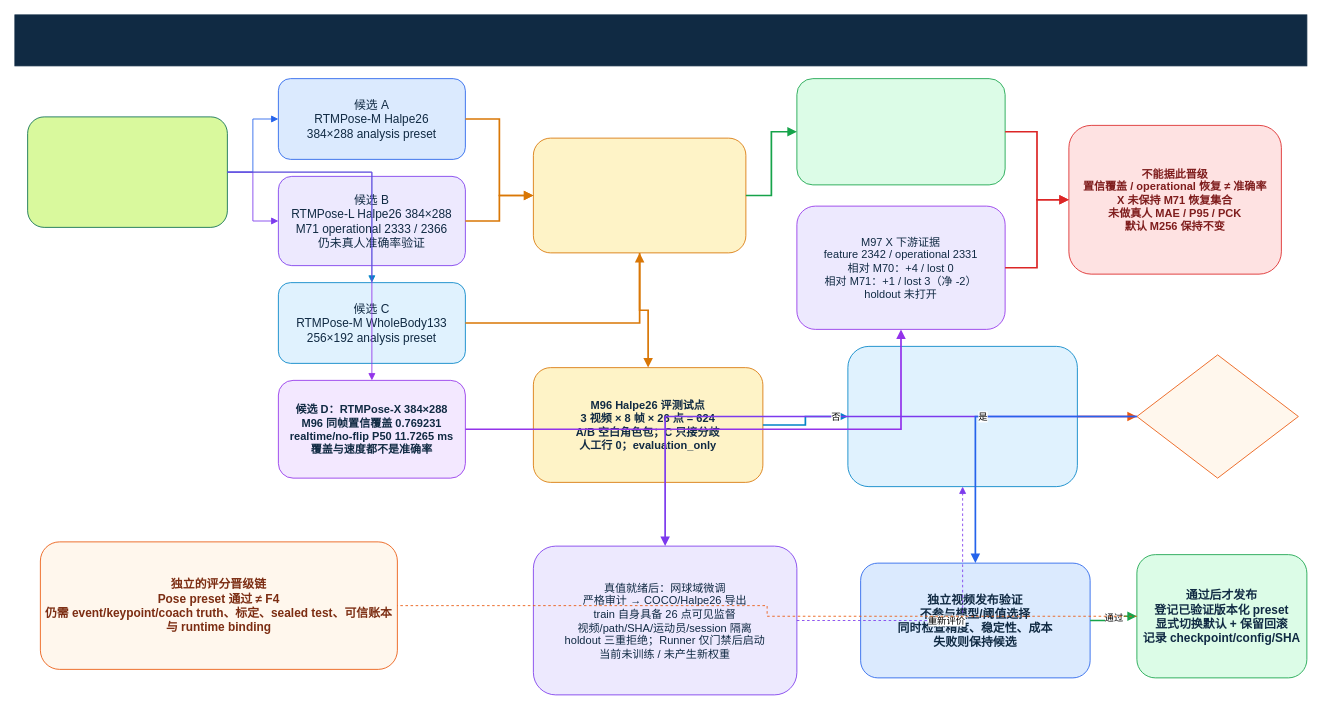
This 1322x710 diagram has some shape labels left out. Each missing label, with the centre of its shape:
L384 下游证据 M71：258 个残差帧 feature 2344 / operational 2333 相对 M68 恢复 13，回归 0: the point at 900,131
M96～M97 模型决策：同帧与下游残差证据均未证明 X 优于 L，默认 M256 保持不变: the point at 660,40
两种固定比较 M96：45 同帧同 ROI，realtime/no-flip M97：258 残差帧，analysis+flip 跨范围延迟不得算比值: the point at 639,195
候选是否满足门禁？: the point at 1217,416
当前默认基线 rtmpose-m-halpe26-online M / 256×192 / Halpe26 F2 measurement default: the point at 127,171
预注册评价 必需关节 MAE / P95 / PCK 事件 F1 / phase error 下游特征误差与缺失 速度 / 显存 / 失败率: the point at 962,416
